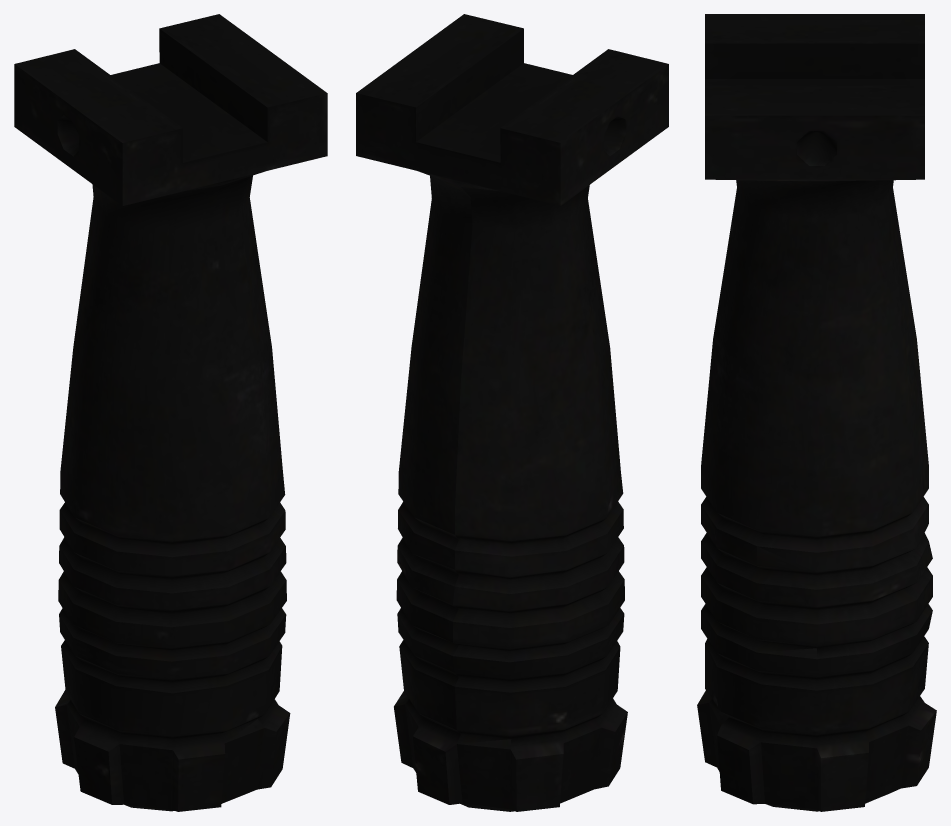
The model's file is VERTGRIP.FBX.
3 renders of one model, left to right at view 1: azimuth 30°, elevation 25°; view 2: azimuth 150°, elevation 25°; view 3: azimuth 270°, elevation 25°, orthographic.
Visible parts, largest first — view 1: Mesh_0015; view 2: Mesh_0015; view 3: Mesh_0015.
Boxes of the visible parts, bbox=[...] form: Mesh_0015: bbox=[14, 14, 327, 811]; Mesh_0015: bbox=[356, 14, 668, 811]; Mesh_0015: bbox=[697, 14, 936, 811].
Size of the model in its own units: 2.95 by 9.58 by 2.93.
